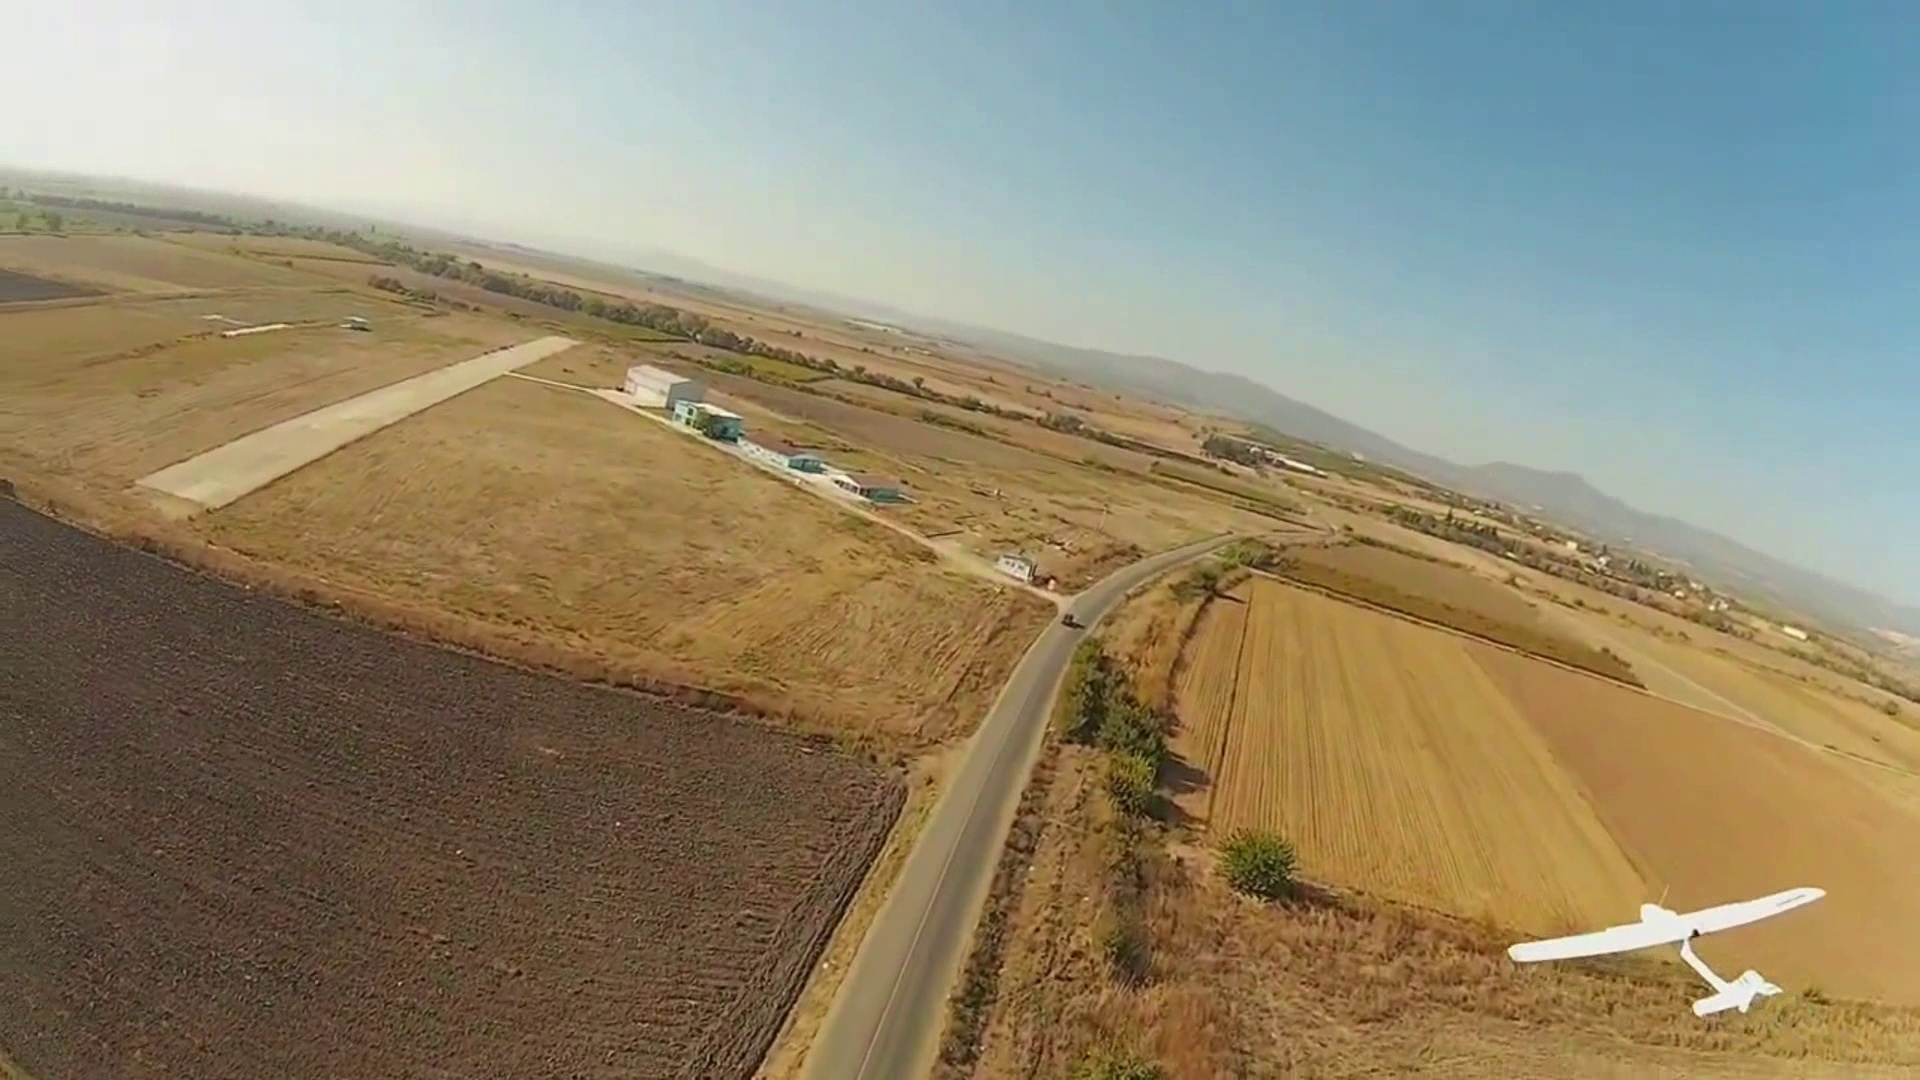airplane: (1509, 886, 1826, 1021)
